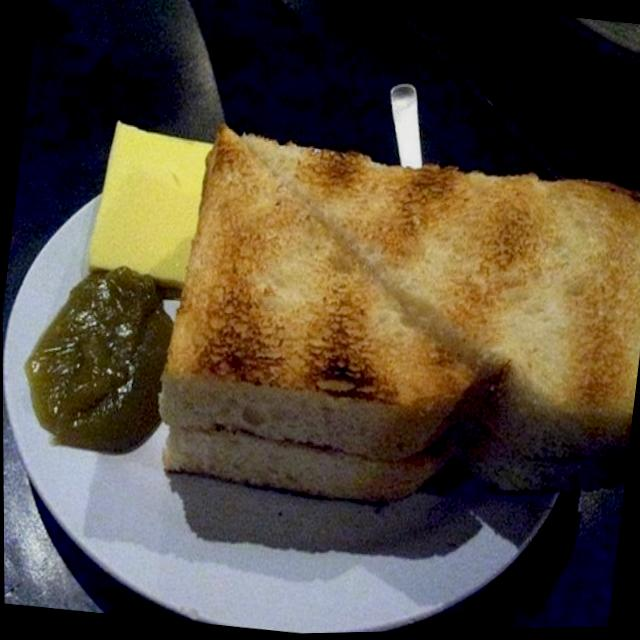面包点心: (145, 120, 640, 561)
